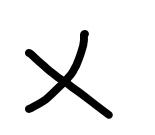mult: (25, 30, 113, 119)
